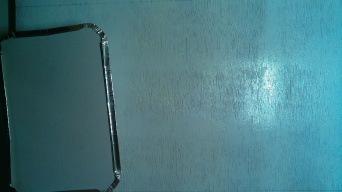f: (1, 30, 127, 192)
